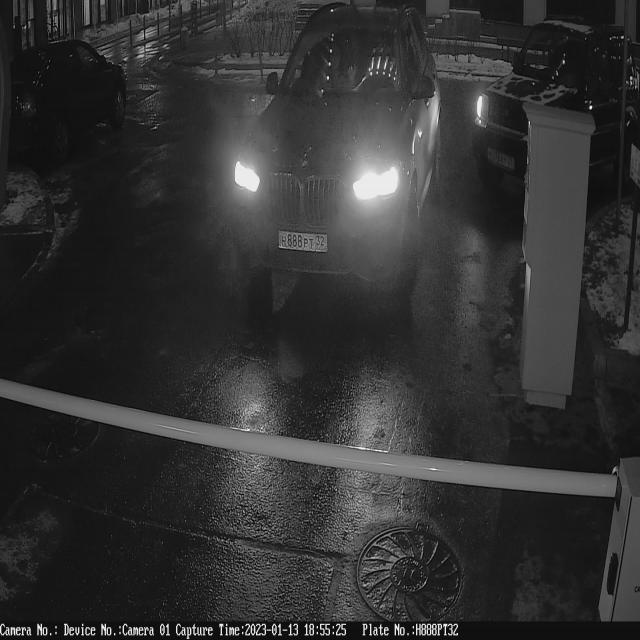car-plate-numbers: (277, 227, 330, 259)
